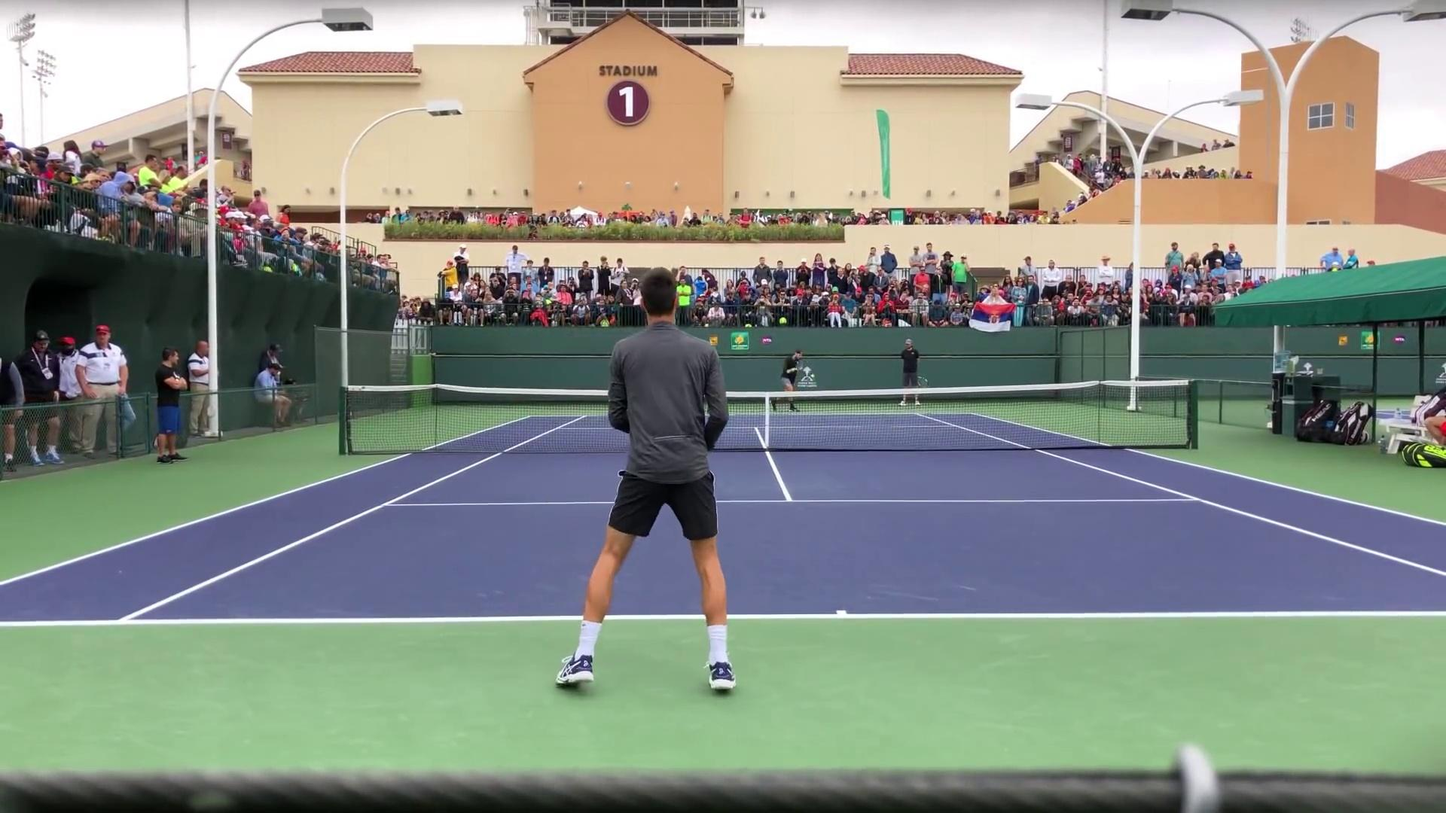ball: (810, 374, 815, 378)
